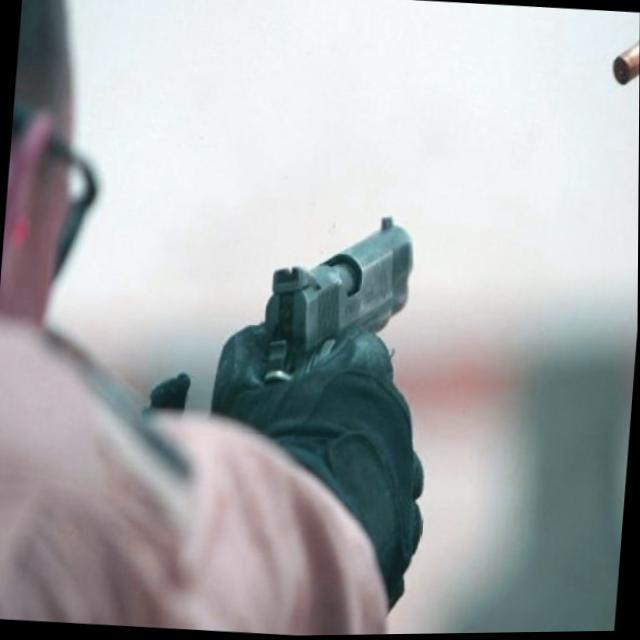weapon: (252, 202, 432, 404)
